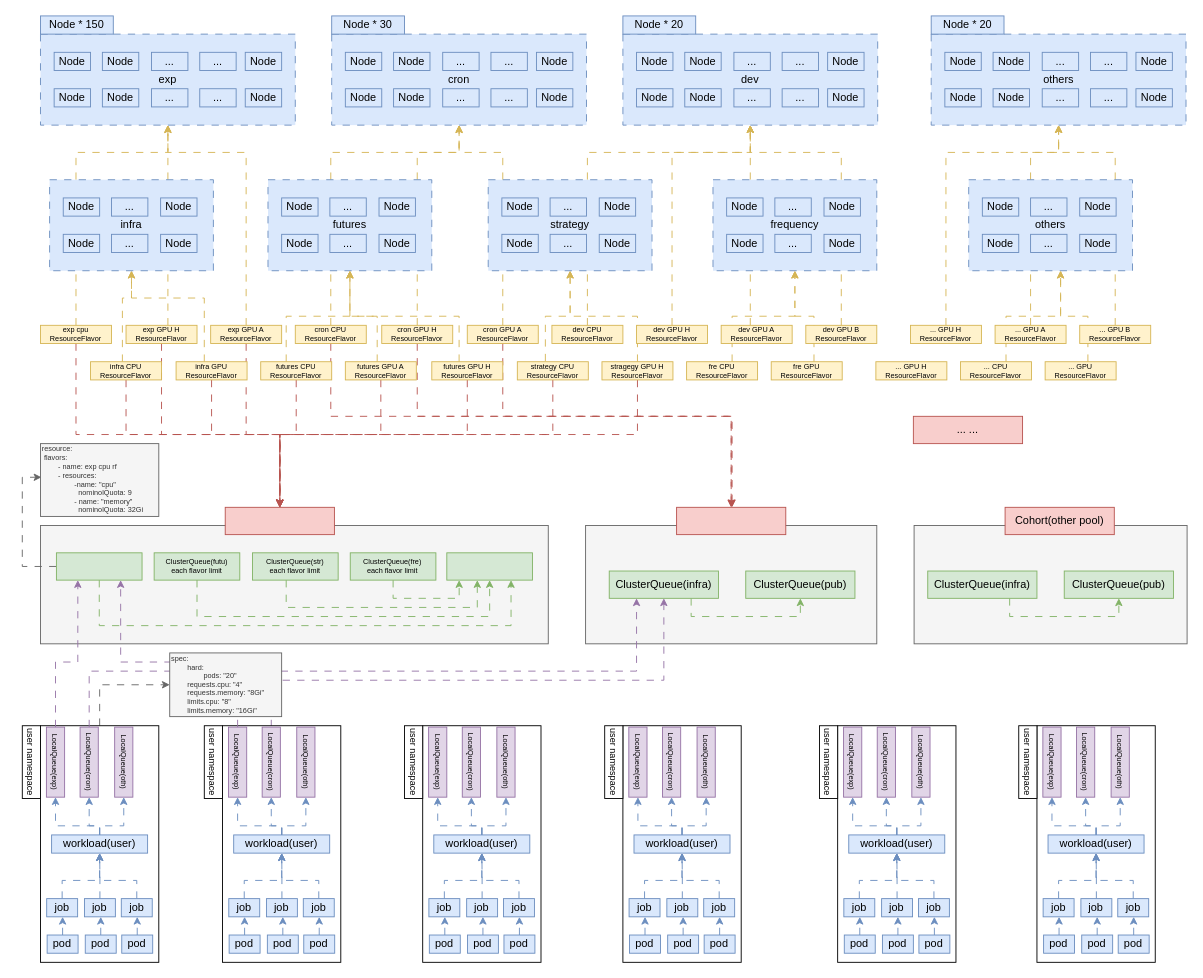
This 1203x978 diagram has some shape labels left out. The centre of each missing label's shape, as x and y in pixels:
"ClusterQueue(infra) each flavor limit" goes at point 99,566.
"ClusterQueue(pub) each flavor limit" goes at point 489,566.
"Cohort(cron pool)" goes at point 731,520.
"Cohort(exp pool)" goes at point 279,520.
